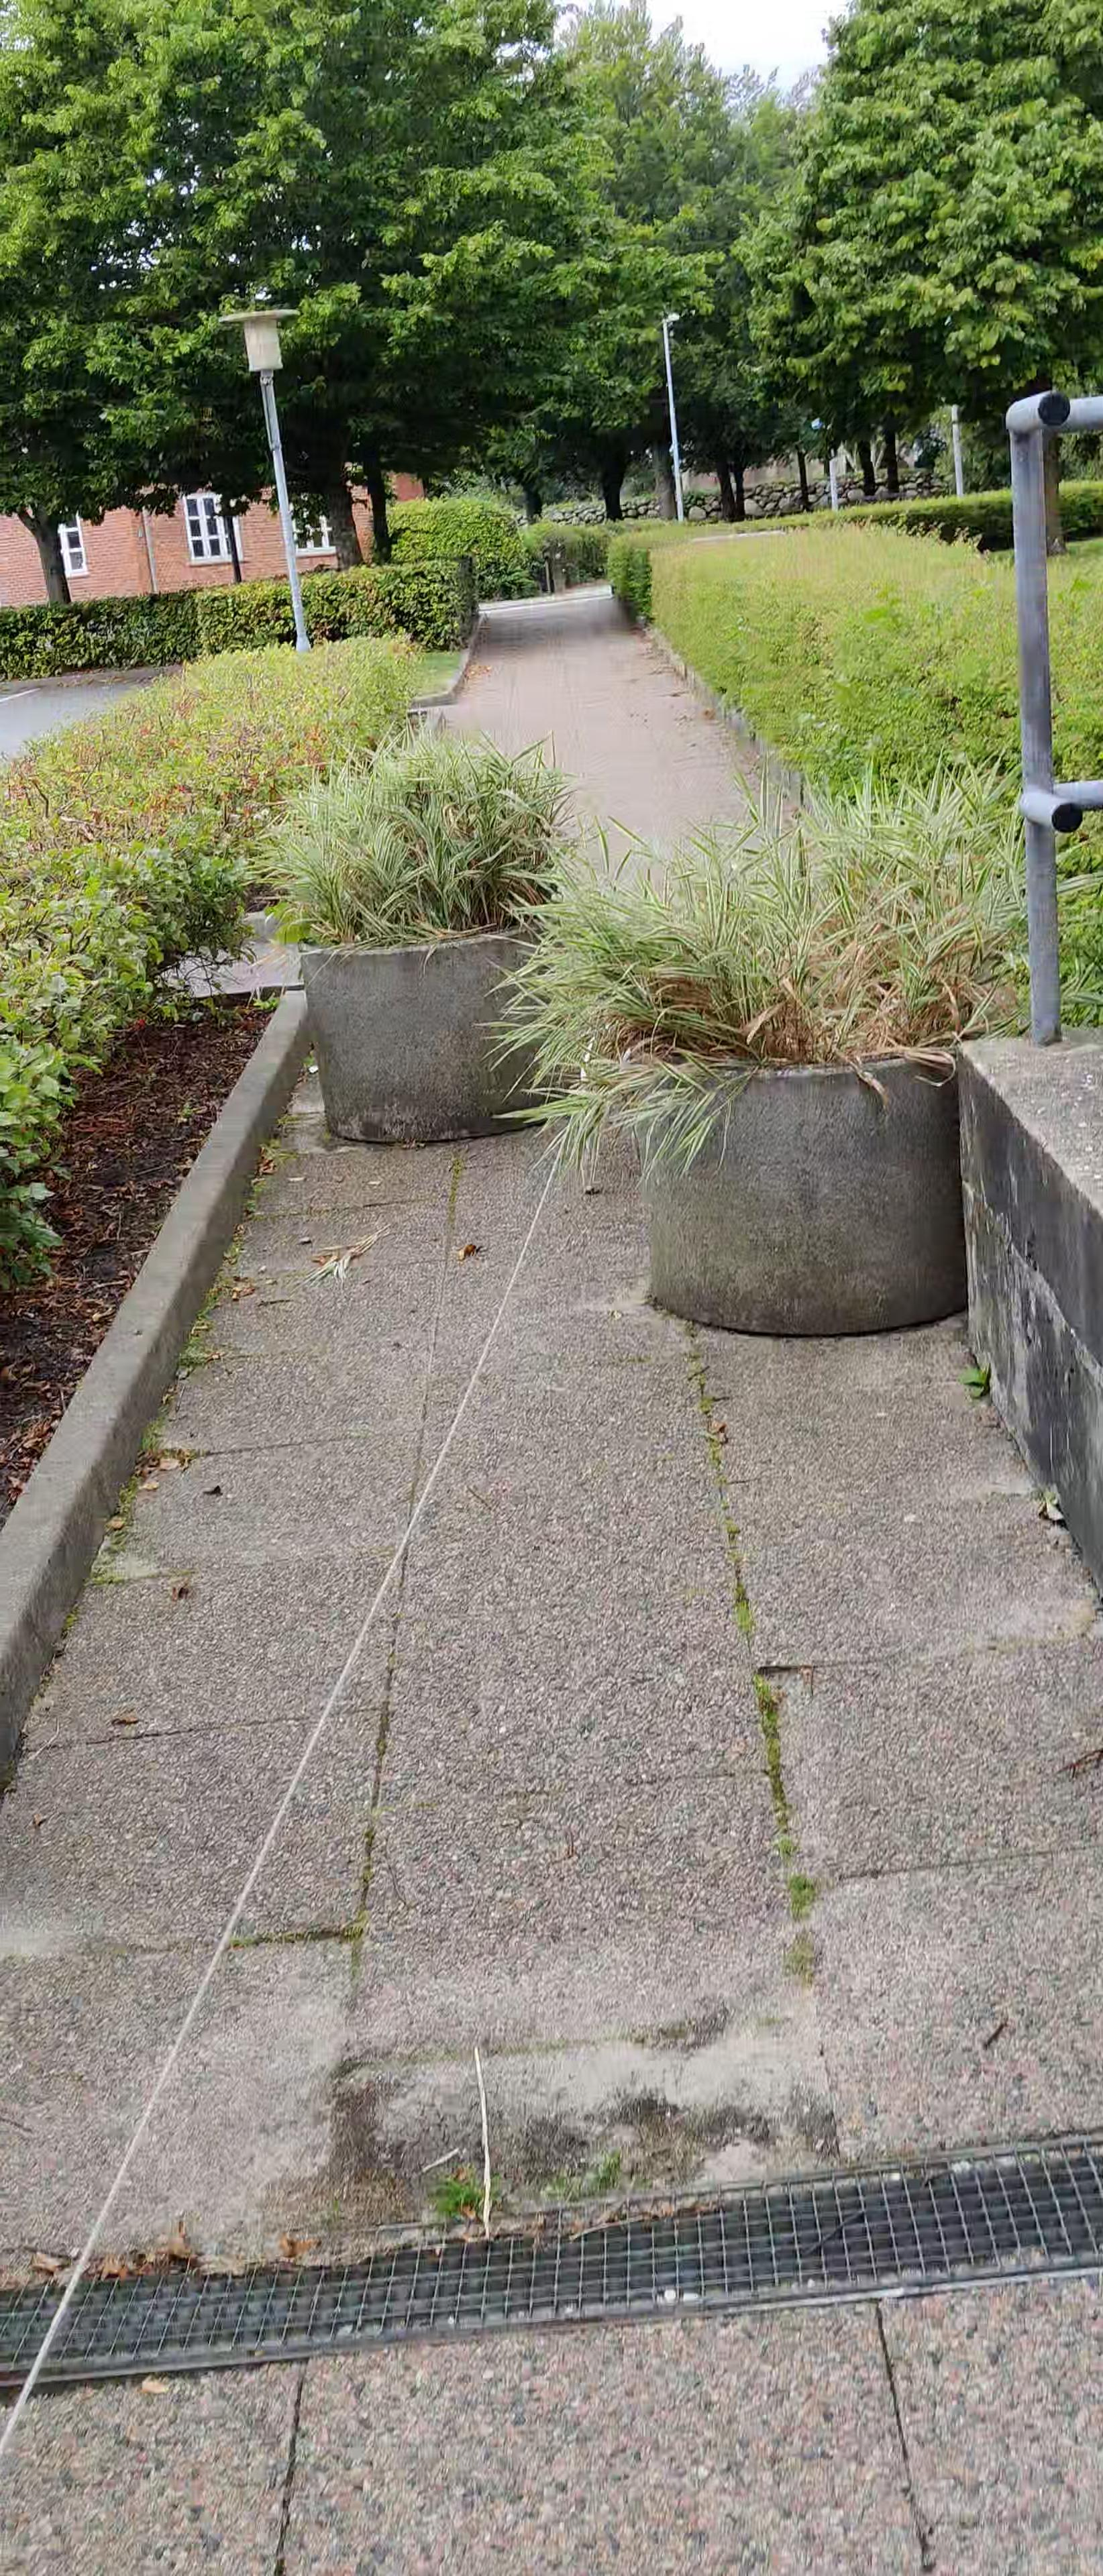Dog: (570, 1109, 608, 1196)
